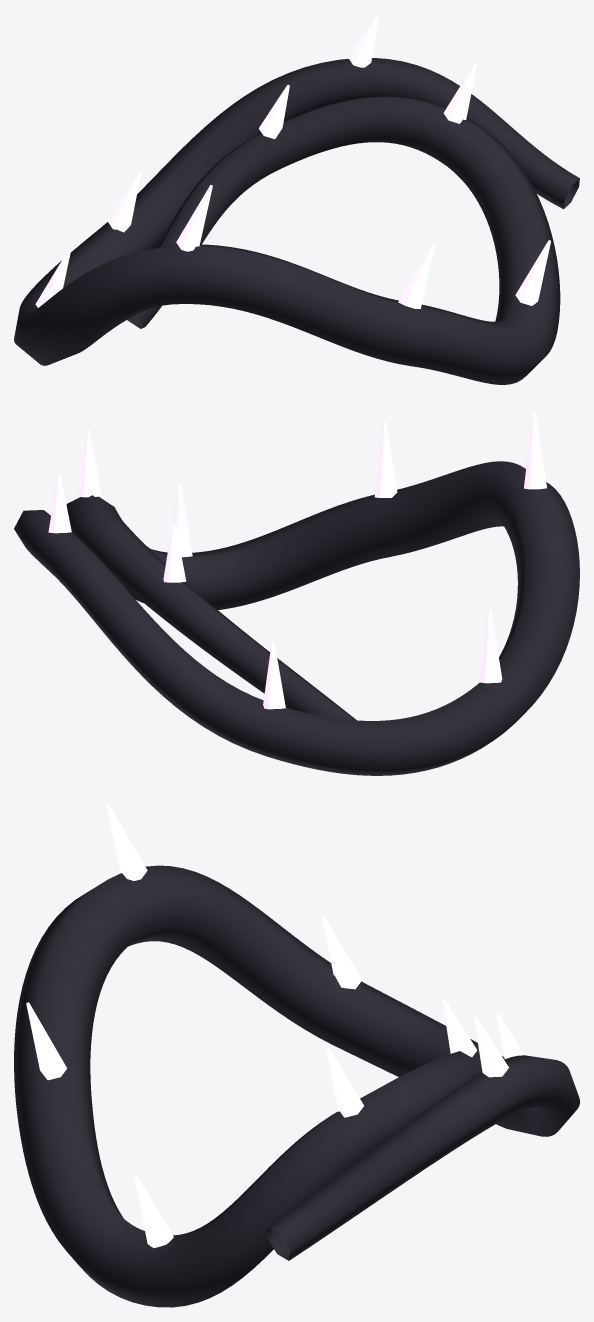
The model's file is SM_Keeper_UmbraCoiled_Coil.fbx.
3 renders of one model, top to bottom at view 1: azimuth 30°, elevation 25°; view 2: azimuth 150°, elevation 25°; view 3: azimuth 270°, elevation 25°, orthographic. The views are drawn at different scales.
Parts seen in each view (by area): view 1: SM_Keeper_UmbraCoiled_Coil; view 2: SM_Keeper_UmbraCoiled_Coil; view 3: SM_Keeper_UmbraCoiled_Coil.
Part boxes in pixels (x1,y1,x2,y2): SM_Keeper_UmbraCoiled_Coil: (14,14,579,384); SM_Keeper_UmbraCoiled_Coil: (14,413,579,775); SM_Keeper_UmbraCoiled_Coil: (14,804,579,1307).
Bounding box in the file's own units: 6.31 × 2.98 × 4.92.
